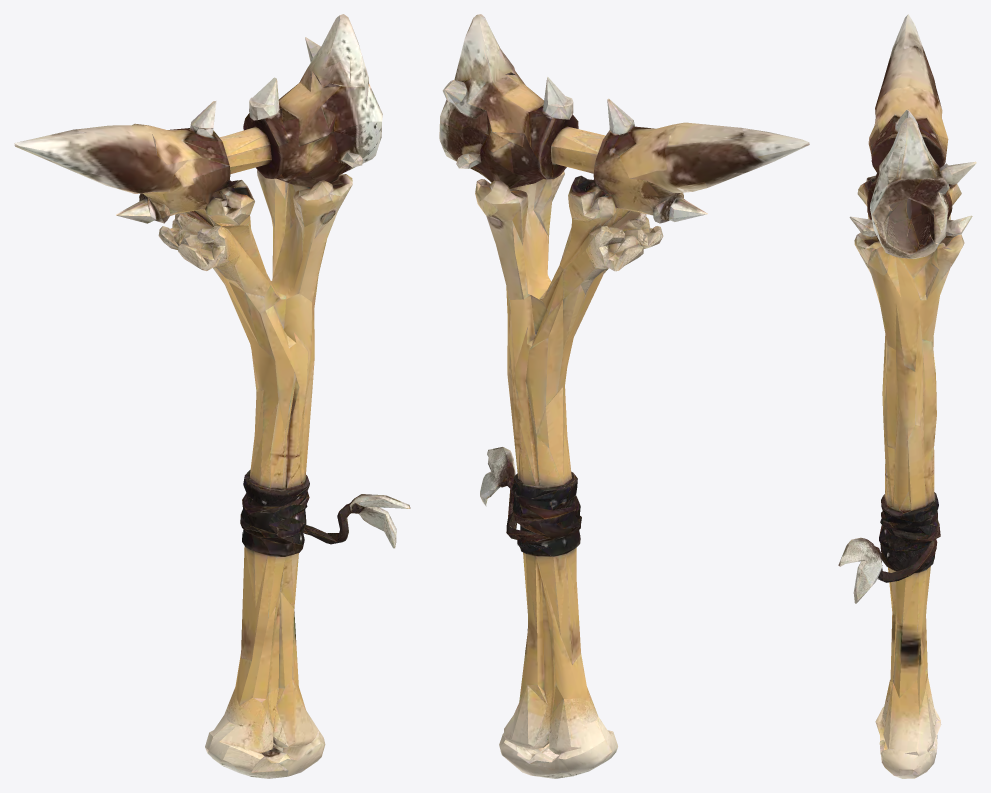
File: clava.glb
3 renders of one model, left to right at view 1: azimuth 30°, elevation 25°; view 2: azimuth 150°, elevation 25°; view 3: azimuth 270°, elevation 25°, orthographic. The views are drawn at different scales.
Size of the model in its own units: 0.9633 by 1.9 by 0.3496.
Materials: 1 (1 with a texture image).
